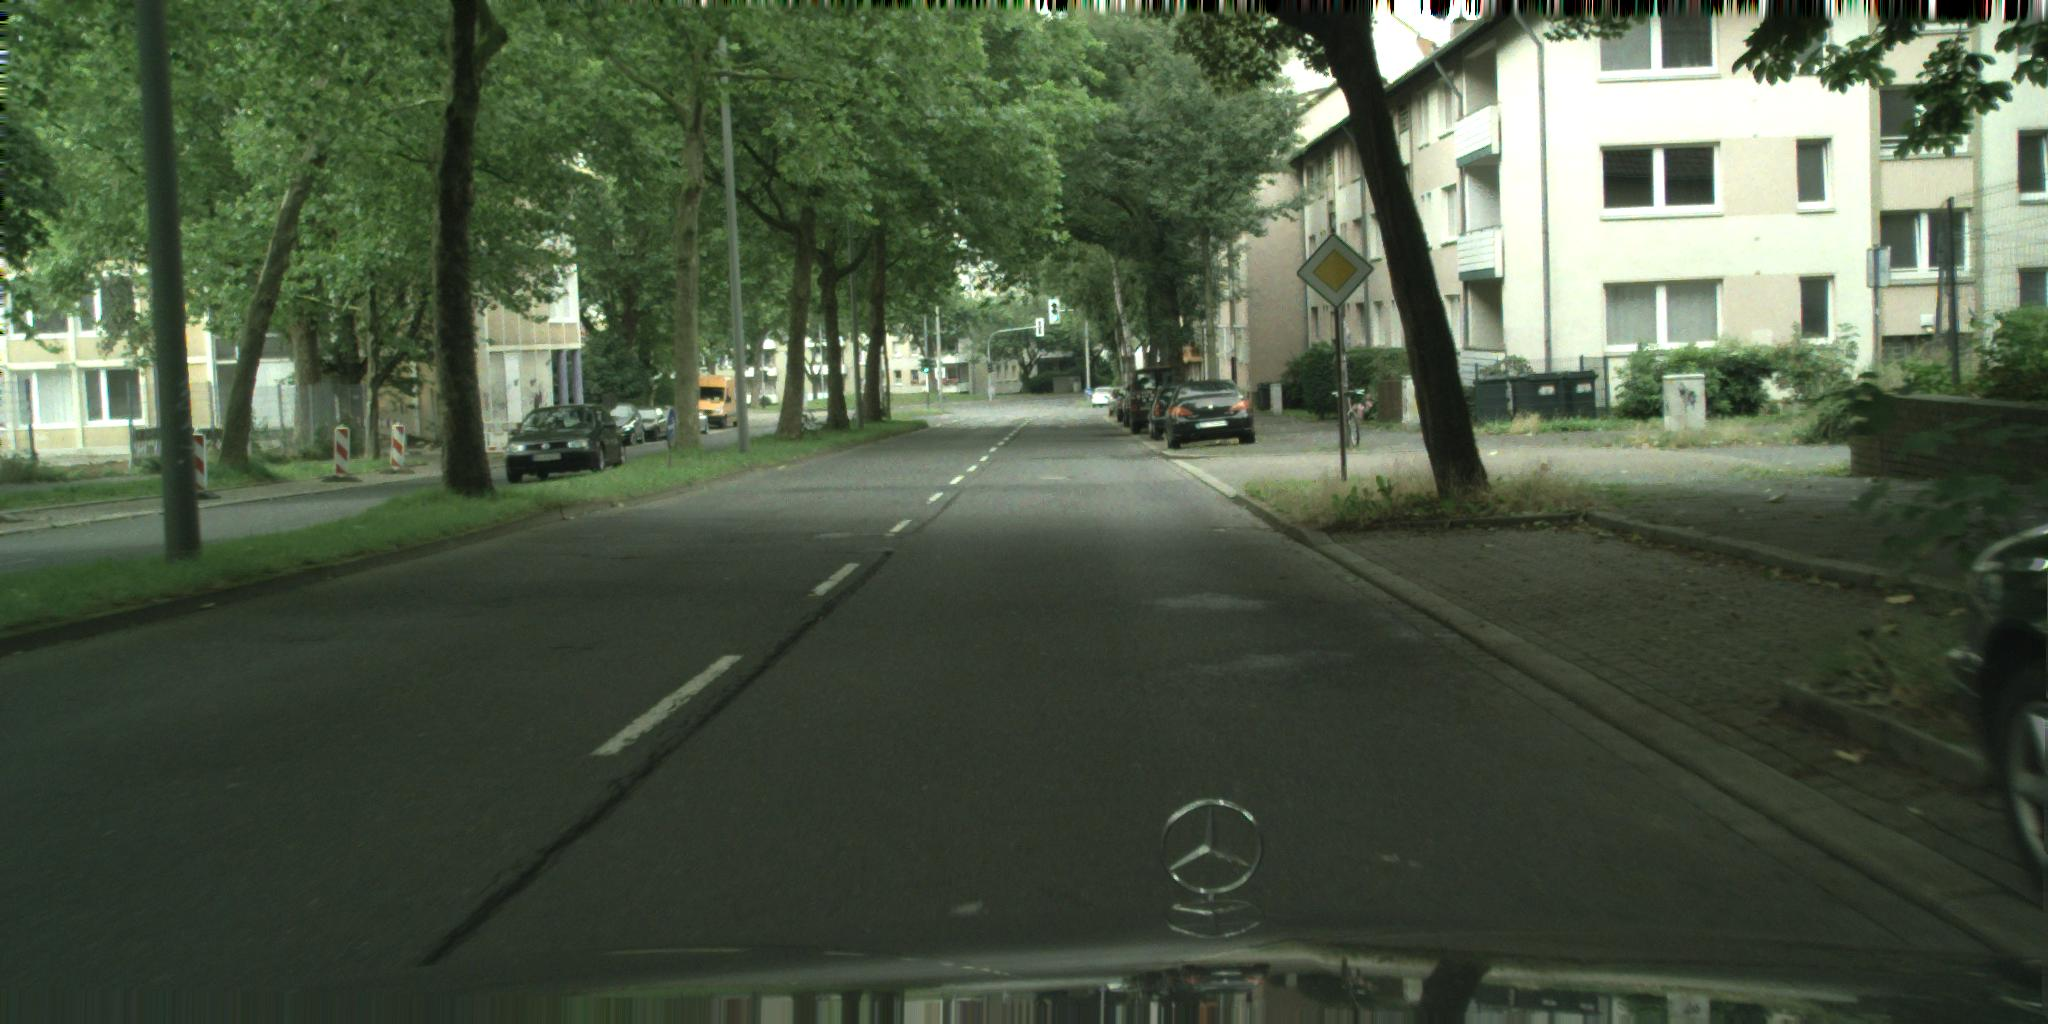bicycle: (1334, 391, 1366, 449)
car: (1944, 521, 2048, 900), (505, 405, 627, 488), (1160, 380, 1256, 451), (1131, 366, 1174, 435), (695, 372, 741, 430), (1145, 384, 1189, 441), (597, 404, 647, 445), (1118, 381, 1155, 428), (1117, 384, 1145, 423), (1109, 387, 1132, 418), (1093, 388, 1122, 408), (692, 408, 711, 435)
